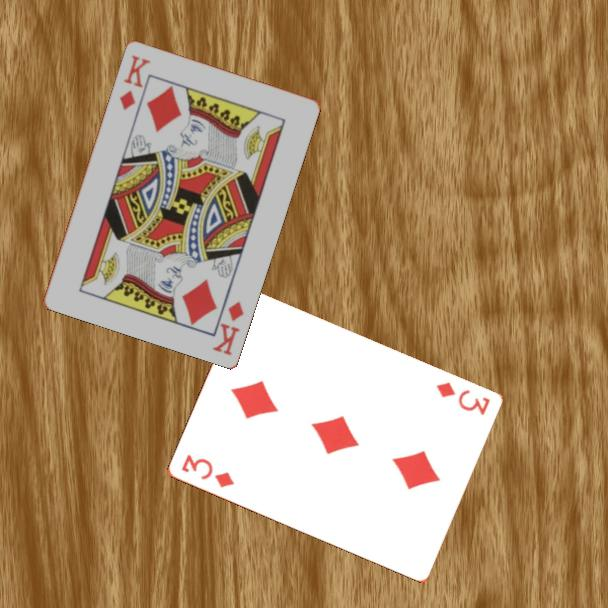d03: (177, 451, 237, 491), (432, 379, 492, 418)
d13: (209, 297, 247, 358), (116, 51, 153, 113)
